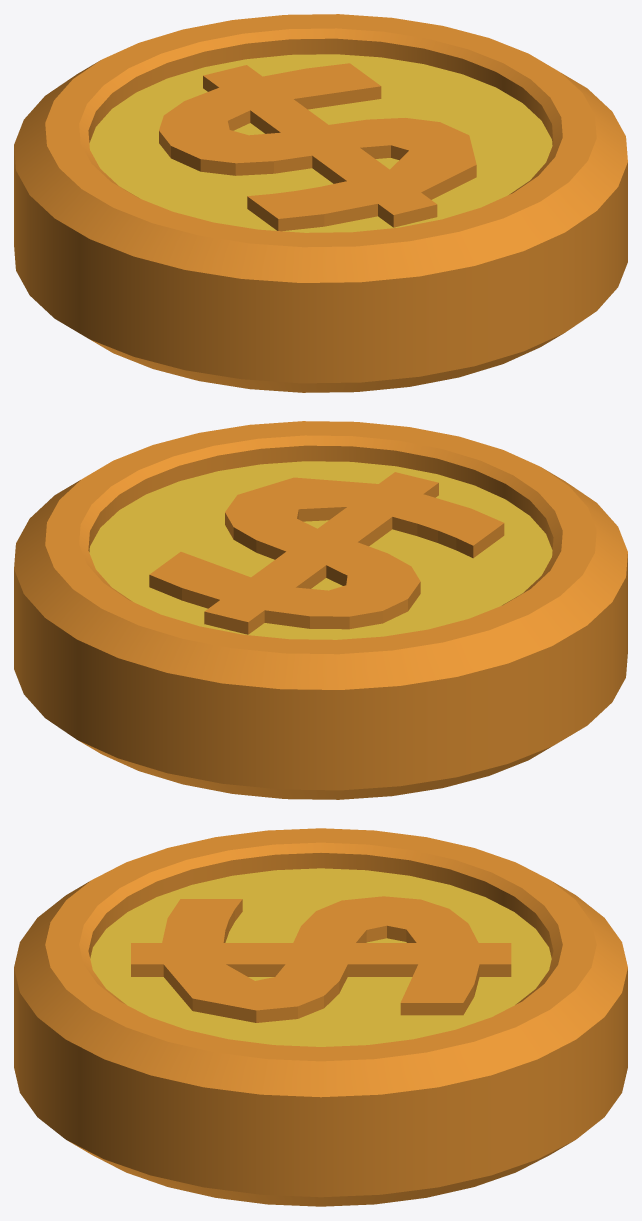
File: Coin_2.fbx
3 renders of one model, top to bottom at view 1: azimuth 30°, elevation 25°; view 2: azimuth 150°, elevation 25°; view 3: azimuth 270°, elevation 25°, orthographic.
Visible parts, largest first — view 1: coin; view 2: coin; view 3: coin.
Part boxes in pixels (x1,y1,x2,y2): coin: [14, 14, 627, 392]; coin: [14, 421, 627, 799]; coin: [14, 828, 627, 1206].
Size of the model in its own units: 77.21 by 20.16 by 77.21.
